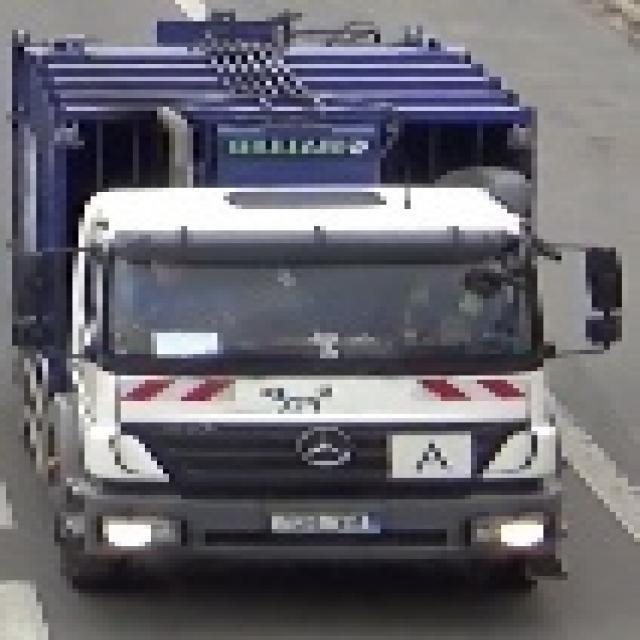Truck: (0, 0, 616, 593)
